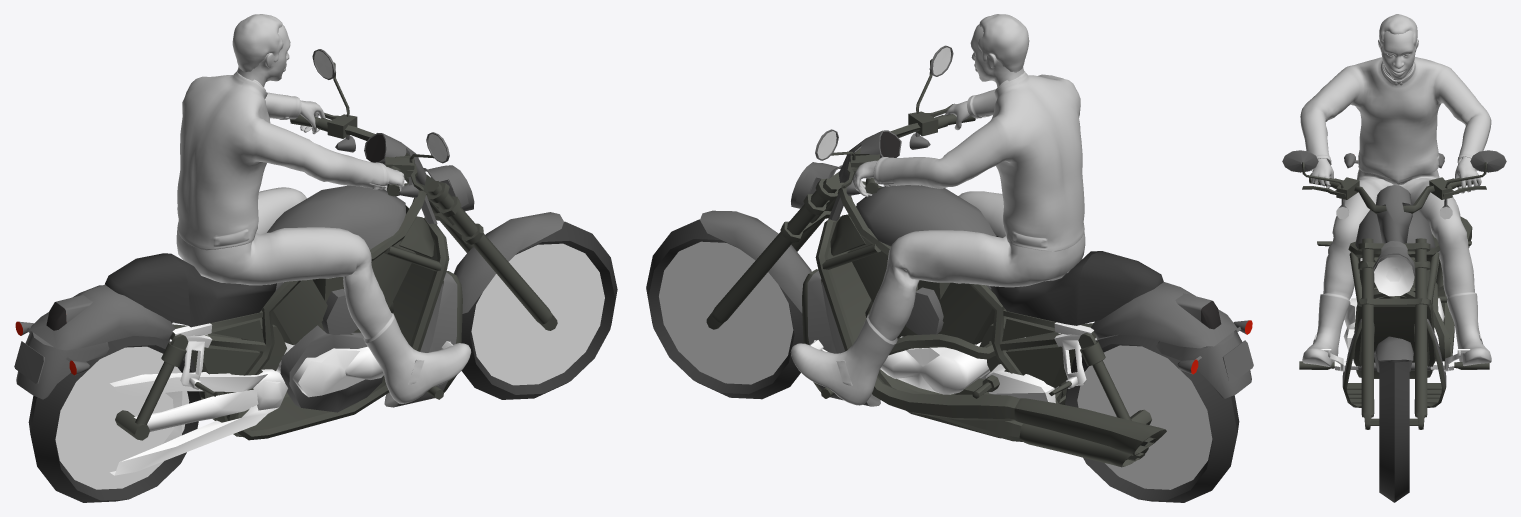
File: sm_motorcycle_02_modelcenterpoint_lod_2.fbx
The picture shows the model from 3 angles, left to right: view 1: azimuth 30°, elevation 25°; view 2: azimuth 150°, elevation 25°; view 3: azimuth 270°, elevation 25°; orthographic projection. The views are drawn at different scales.
Parts seen in each view (by area): view 1: sm_motorcycle_02_modelcenterpoint_lod3; view 2: sm_motorcycle_02_modelcenterpoint_lod3; view 3: sm_motorcycle_02_modelcenterpoint_lod3.
Part boxes in pixels (x1,y1,x2,y2): sm_motorcycle_02_modelcenterpoint_lod3: [14, 14, 617, 502]; sm_motorcycle_02_modelcenterpoint_lod3: [646, 14, 1253, 502]; sm_motorcycle_02_modelcenterpoint_lod3: [1282, 14, 1506, 502].
Bounding box in the file's own units: 2.43 × 1.75 × 0.9607.
